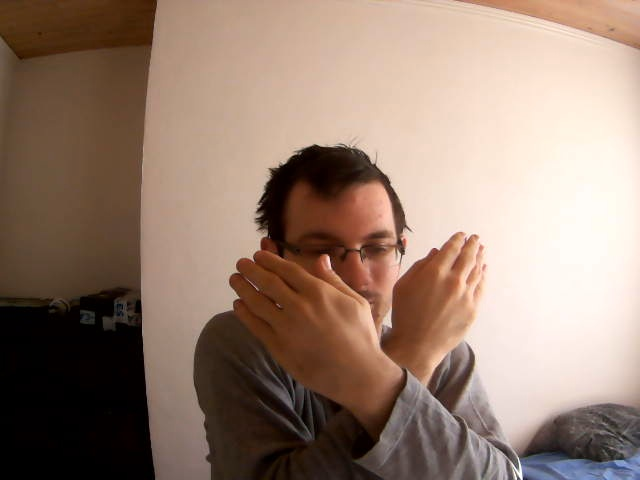butterfly: (223, 229, 490, 378)
